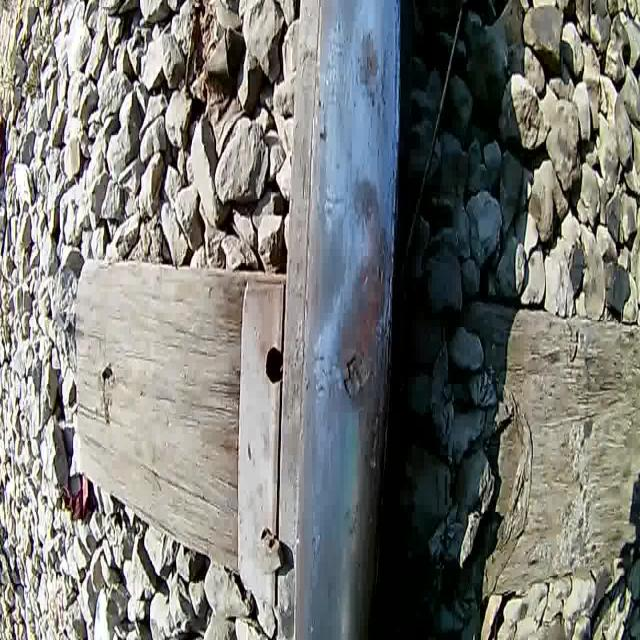Spallings: (338, 349, 378, 403)
Squats: (330, 176, 398, 640), (357, 24, 382, 112)
